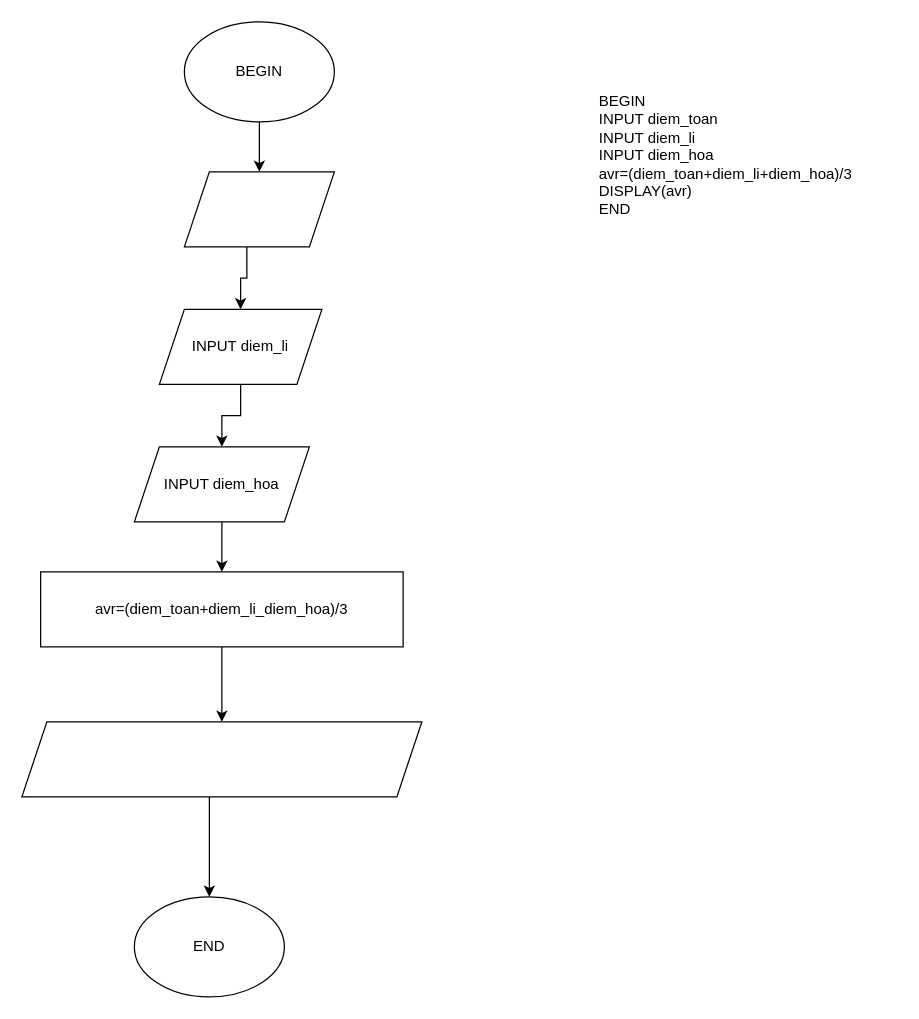
Some shapes in this 919 by 1019 pixel diagram are drawn without their labels. The centre of each missing label's shape, as x and y in pixels:
DISPLAY avr: (221,759)
INPUT diem_toan: (258,209)
